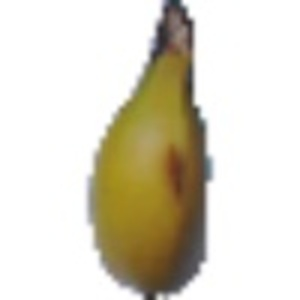banana: (83, 3, 220, 292)
